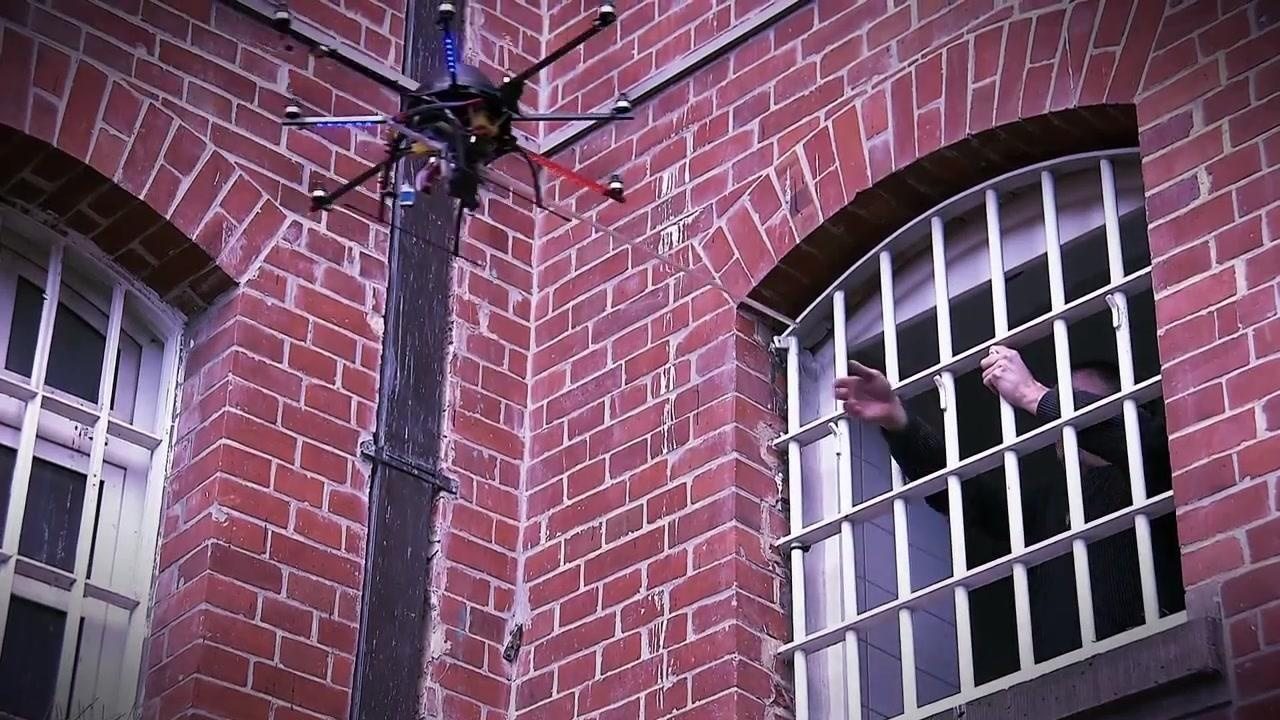UAV: (272, 3, 629, 211)
